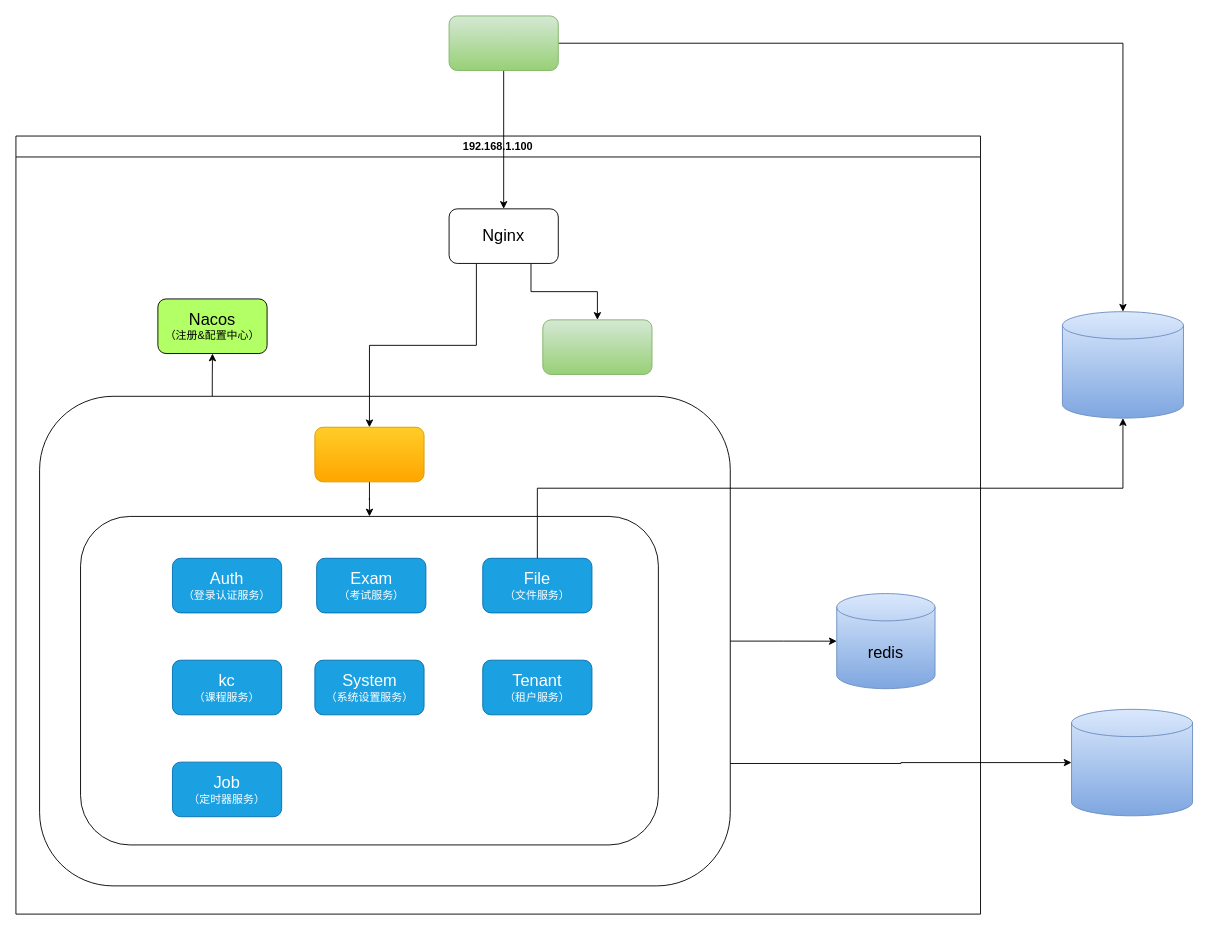
Some shapes in this 1208 by 930 pixel diagram are drawn without their labels. The centre of each missing label's shape, as x and y in pixels:
"Gateway （网关）" goes at point (369, 454).
"html ( 前端资源 )" goes at point (597, 346).
"mysql (阿里云)" goes at point (1132, 762).
"web客户端" goes at point (503, 43).
"腾讯云 （文件&视频 ）" goes at point (1122, 364).
